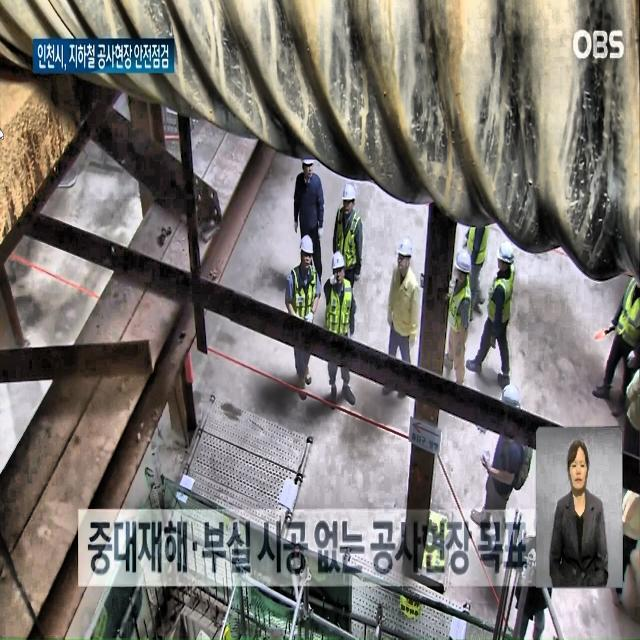safety_helmet: (501, 378, 522, 415), (452, 248, 473, 278), (329, 248, 347, 276), (397, 234, 417, 256), (497, 246, 516, 266), (342, 180, 356, 207), (300, 230, 313, 257)
safety_jacket: (614, 276, 640, 356), (488, 261, 516, 330), (336, 210, 362, 284), (326, 276, 354, 343), (291, 267, 320, 328), (446, 278, 475, 336), (467, 223, 490, 274)
